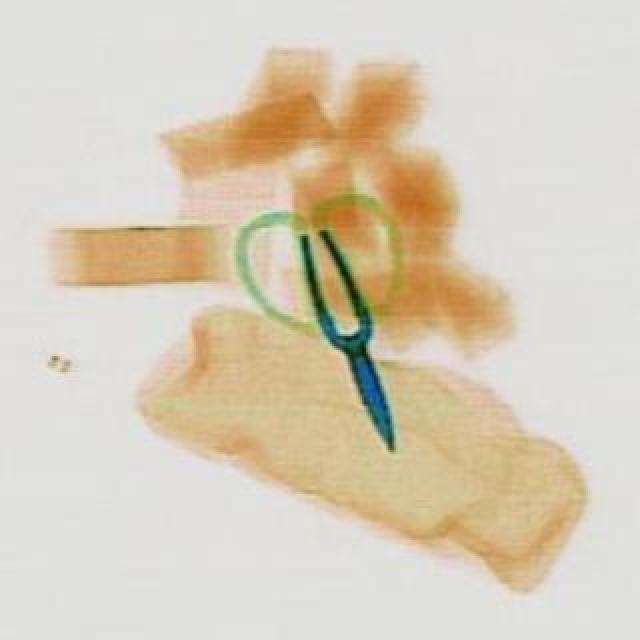pliers: (214, 174, 470, 478)
